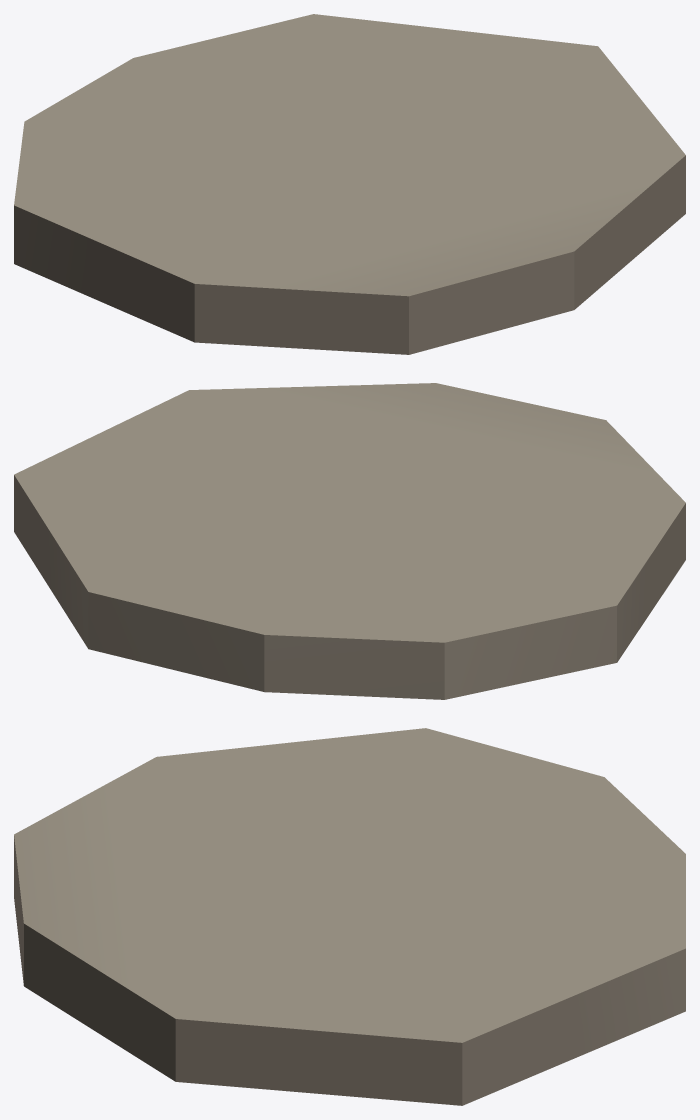
Rendered from SM_Env_Ice_03.fbx.
3 views of the same model, one above another, from view 1: azimuth 30°, elevation 25°; view 2: azimuth 150°, elevation 25°; view 3: azimuth 270°, elevation 25° (orthographic). The views are drawn at different scales.
Visible parts, largest first — view 1: SM_Env_Ice_03; view 2: SM_Env_Ice_03; view 3: SM_Env_Ice_03.
Part boxes in pixels (x1,y1,x2,y2): SM_Env_Ice_03: (14, 14, 685, 354); SM_Env_Ice_03: (14, 383, 685, 699); SM_Env_Ice_03: (14, 728, 685, 1105).
Bounding box in the file's own units: 0.0191 × 0.00178 × 0.0172.
1 material, 1 textured.
